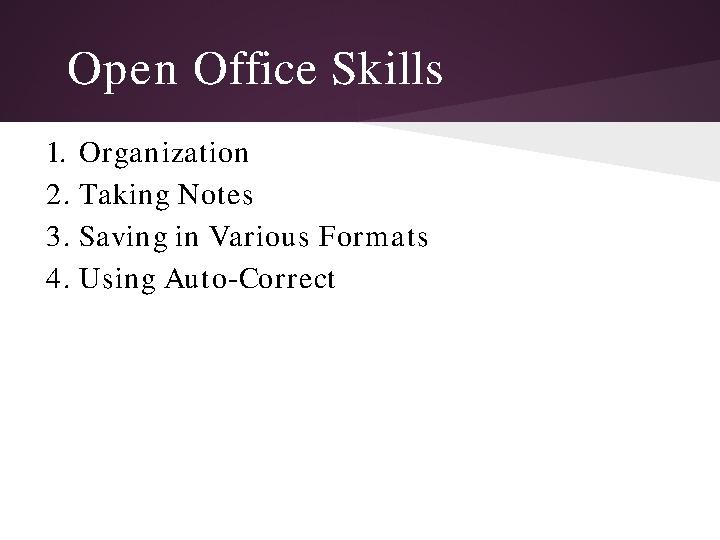paragraph: (30, 128, 477, 328)
title: (62, 14, 465, 106)
